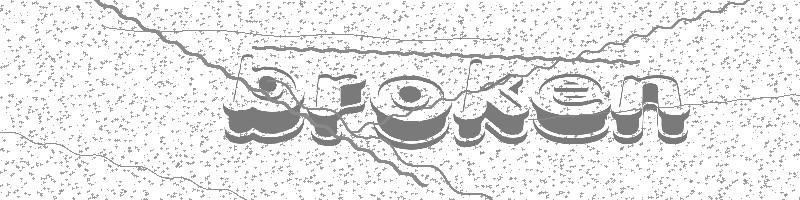b: (223, 54, 305, 144)
e: (532, 73, 612, 144)
k: (453, 59, 531, 147)
n: (612, 76, 691, 144)
o: (370, 75, 452, 149)
r: (307, 73, 365, 146)
